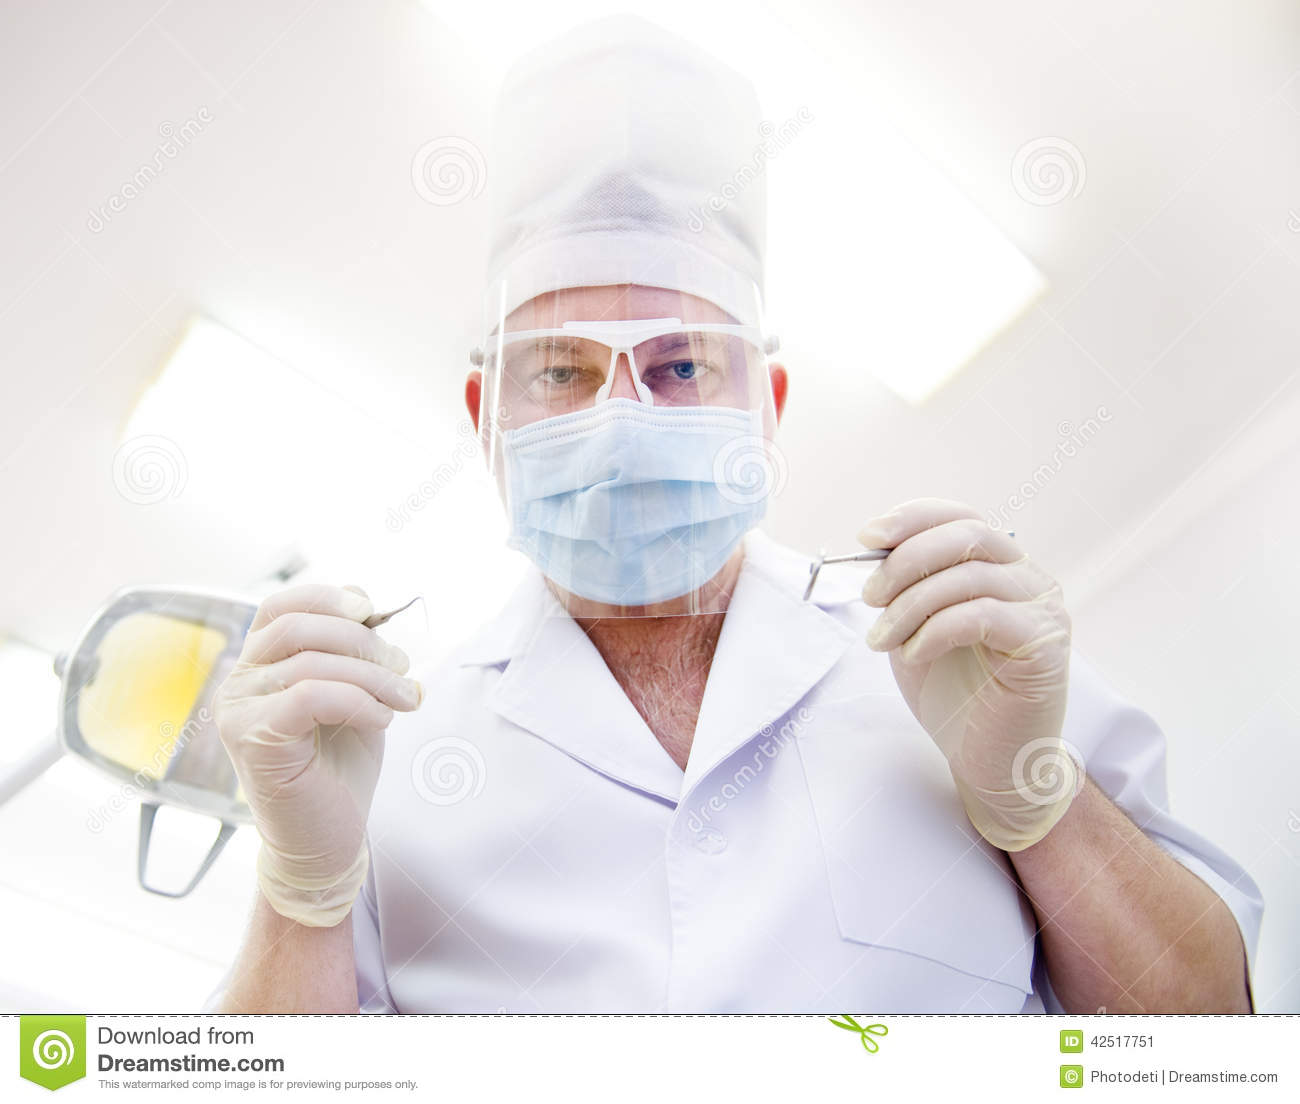mask: (497, 409, 797, 619)
